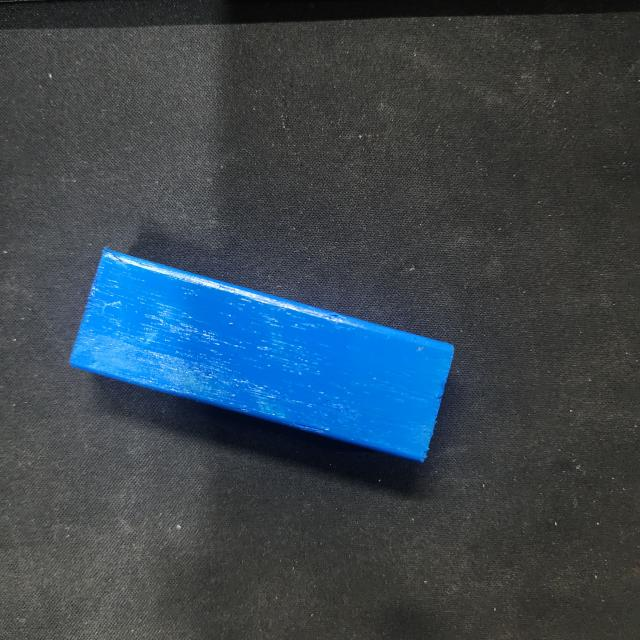blue: (68, 247, 457, 466)
